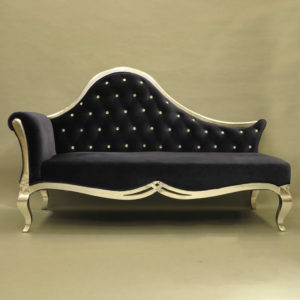Carving Chair: (6, 73, 292, 237)
